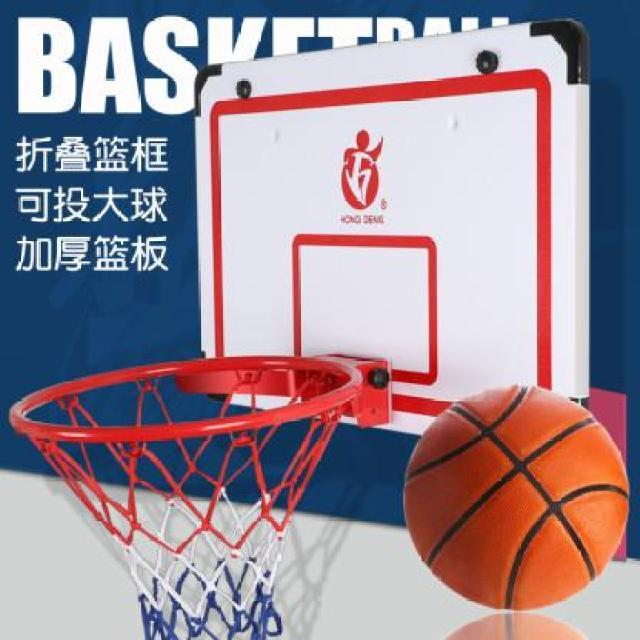basketball: (403, 383, 631, 612)
rim: (8, 355, 359, 640)
